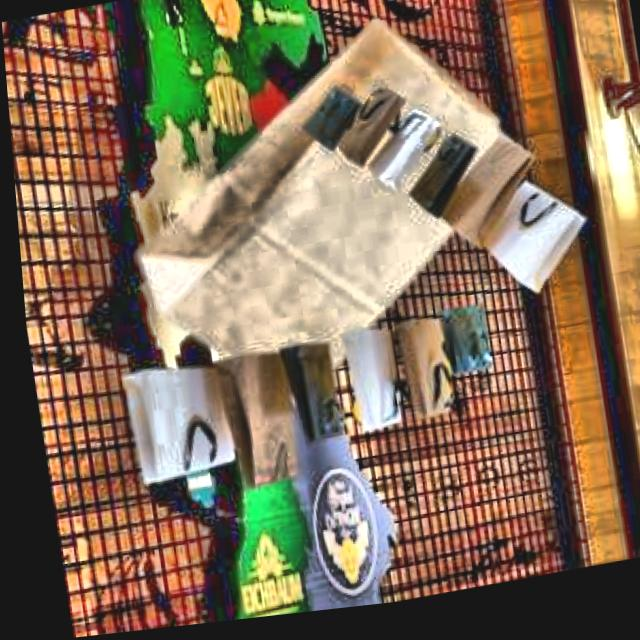Paper-bag: (82, 15, 539, 404), (98, 291, 543, 509), (299, 55, 607, 352)
